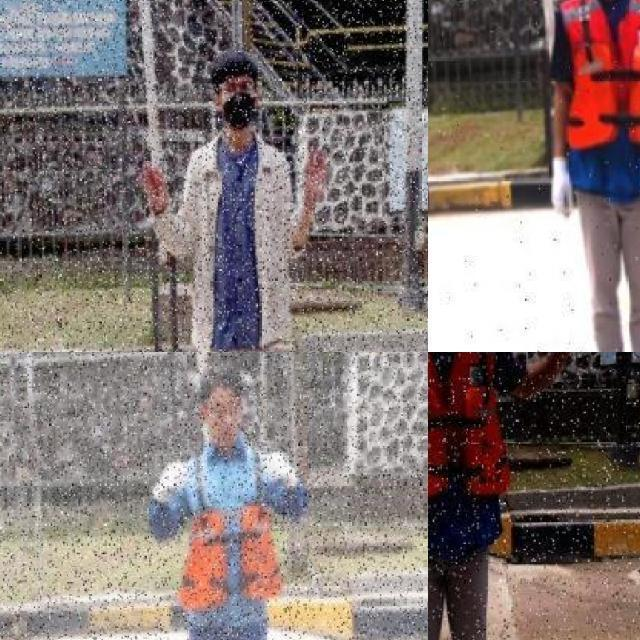apron: (150, 458, 194, 506), (260, 446, 300, 494), (549, 154, 575, 222)
